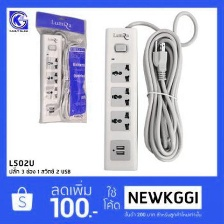three_eye_plug: (101, 24, 141, 173), (37, 31, 63, 124)
